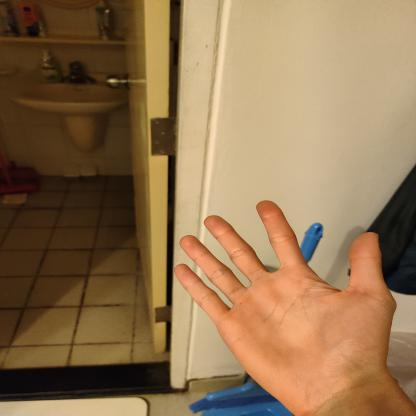bare_hand: (167, 193, 402, 410)
